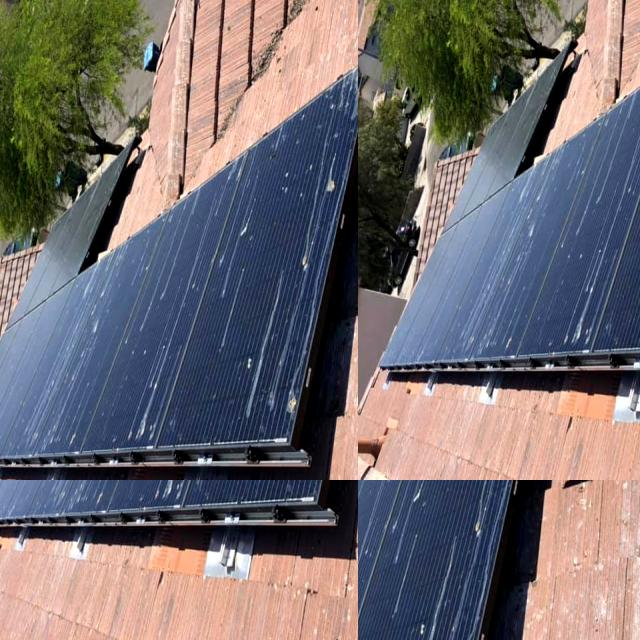bird: (225, 480, 308, 544), (190, 480, 299, 526), (0, 480, 51, 564), (379, 480, 434, 553), (45, 480, 167, 512), (94, 480, 159, 540), (26, 480, 83, 535), (88, 480, 132, 551), (262, 480, 331, 525), (330, 480, 358, 562), (358, 527, 385, 608), (463, 490, 498, 552), (314, 480, 358, 529), (0, 480, 49, 524), (0, 480, 36, 537), (249, 480, 296, 511), (206, 480, 256, 500), (162, 480, 178, 536), (404, 613, 437, 640), (483, 480, 513, 504)
crack: (28, 315, 248, 428), (243, 300, 358, 394)
